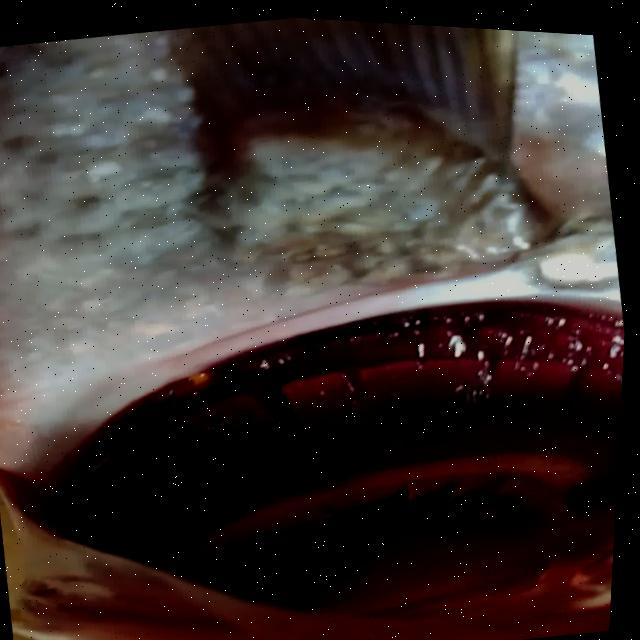Fresh: (13, 231, 631, 640)
